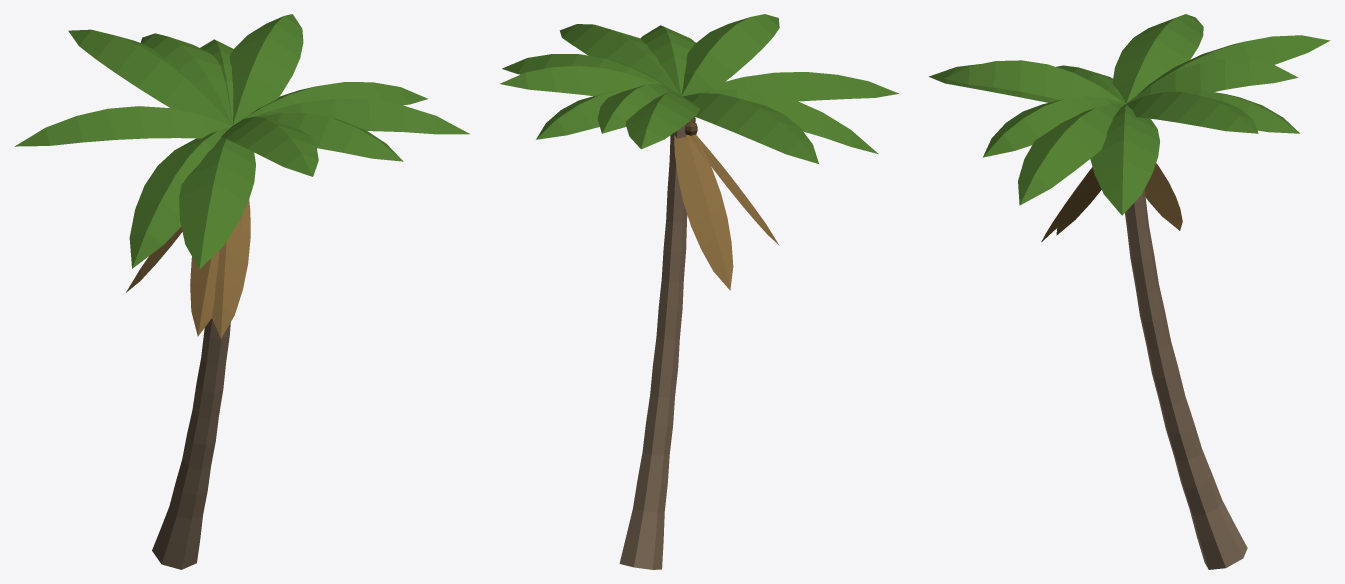
Rendered from palm_a.glb.
The picture shows the model from 3 angles, left to right: view 1: azimuth 30°, elevation 25°; view 2: azimuth 150°, elevation 25°; view 3: azimuth 270°, elevation 25°; orthographic projection. The views are drawn at different scales.
Visible parts, largest first — view 1: Palm; view 2: Palm; view 3: Palm.
Part boxes in pixels (box(x1,y1,x2,y2)): Palm: box(15, 14, 469, 569); Palm: box(500, 14, 898, 569); Palm: box(929, 14, 1330, 569).
Size of the model in its own units: 6 by 7.87 by 5.62.
